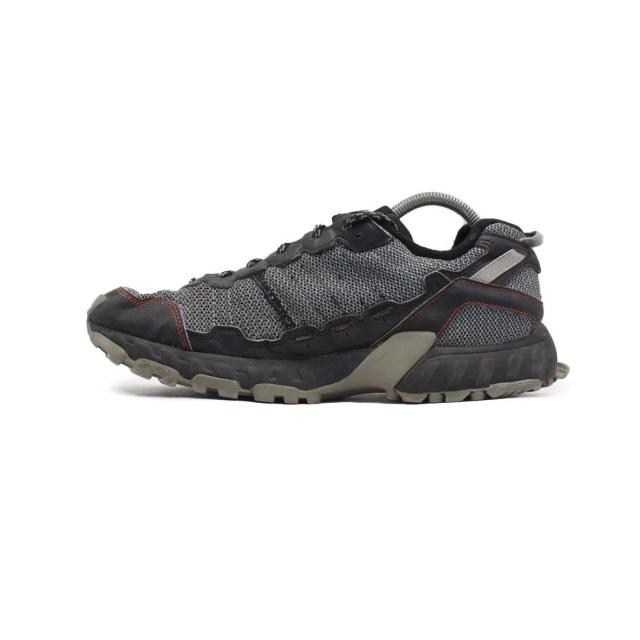heel: (452, 221, 541, 351)
midsole: (85, 319, 574, 405)
uppersole: (87, 210, 457, 361)
